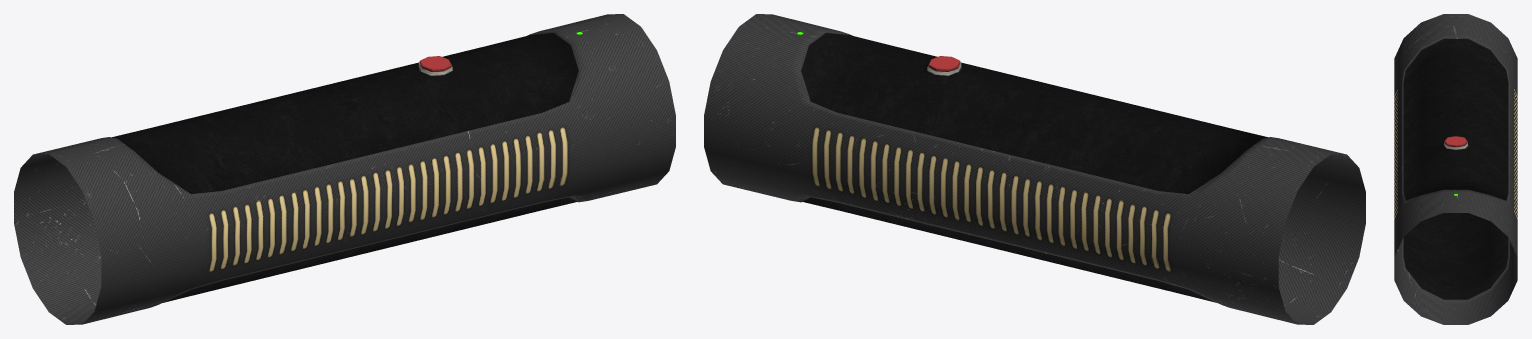
Rendered from grip_2_c_b.glb.
3 renders of one model, left to right at view 1: azimuth 30°, elevation 25°; view 2: azimuth 150°, elevation 25°; view 3: azimuth 270°, elevation 25°, orthographic. The views are drawn at different scales.
Parts seen in each view (by area): view 1: grip_2_c_b_lod0; view 2: grip_2_c_b_lod0; view 3: grip_2_c_b_lod0.
Boxes of the visible parts, left/top/right/bottom form: grip_2_c_b_lod0: left=14, top=14, right=675, bottom=324; grip_2_c_b_lod0: left=704, top=14, right=1365, bottom=324; grip_2_c_b_lod0: left=1394, top=14, right=1517, bottom=324.
Size of what is drawn, in the model's own units: 0.1054 by 0.0287 by 0.0277.
1 material, 1 textured.
